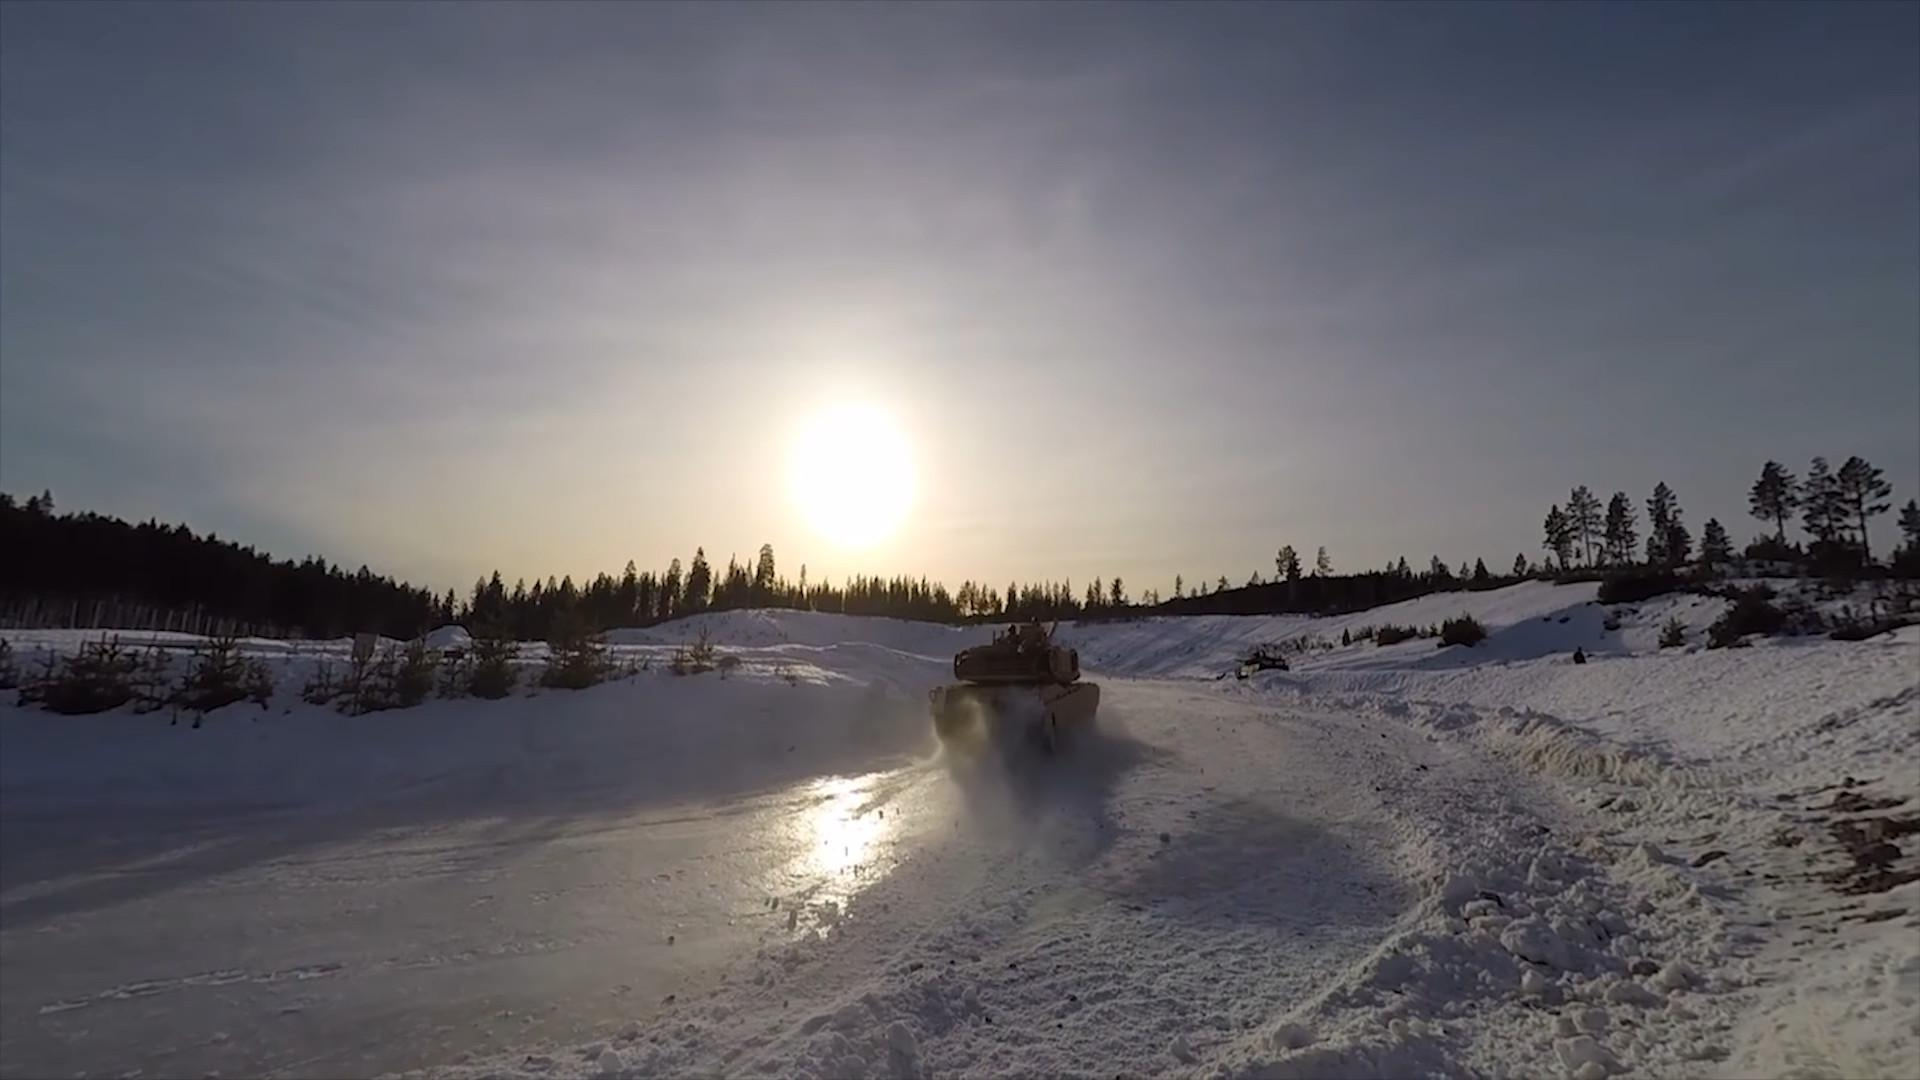tank: (930, 618, 1100, 750)
